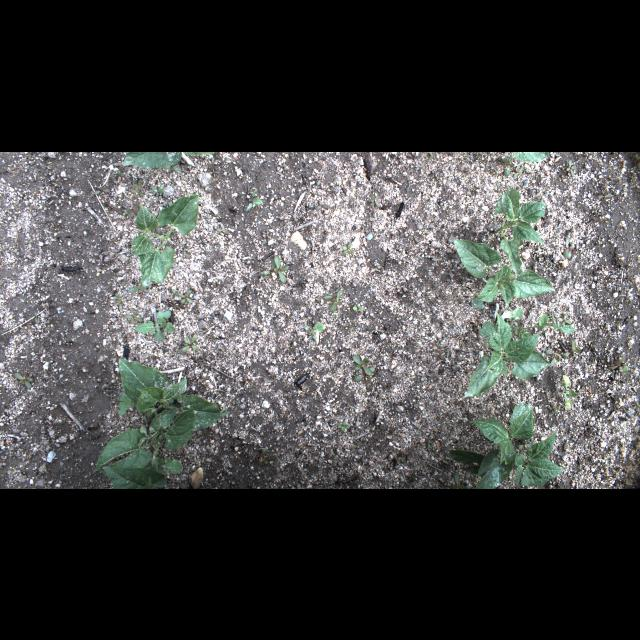crop: (450, 404, 566, 488), (118, 358, 230, 429), (463, 309, 551, 396), (96, 408, 194, 474), (132, 193, 198, 287), (493, 187, 545, 275), (122, 151, 214, 171), (102, 468, 166, 488), (512, 152, 550, 160)
weed: (478, 305, 576, 343), (134, 310, 176, 340), (352, 354, 376, 388), (262, 255, 288, 283), (562, 372, 580, 410), (144, 458, 184, 474), (322, 289, 344, 311), (610, 353, 630, 373), (247, 188, 263, 212), (180, 336, 200, 354), (172, 288, 192, 304), (14, 372, 34, 388), (260, 447, 276, 467), (561, 341, 581, 357), (305, 322, 323, 338), (128, 278, 148, 292), (501, 153, 514, 174), (454, 472, 471, 488), (125, 310, 144, 324), (117, 396, 131, 414), (546, 349, 560, 366), (564, 236, 574, 258), (566, 158, 576, 178), (216, 221, 230, 235), (342, 242, 354, 256), (557, 314, 571, 326), (113, 294, 123, 310), (127, 202, 137, 218), (152, 186, 164, 198), (338, 421, 350, 432), (94, 186, 110, 194), (129, 188, 145, 196), (518, 442, 534, 450), (596, 190, 612, 198), (112, 172, 124, 182), (370, 194, 380, 206), (514, 166, 524, 177), (352, 303, 364, 311), (408, 234, 420, 242), (209, 167, 219, 176), (550, 404, 558, 414), (132, 179, 142, 187), (316, 203, 329, 209), (34, 311, 40, 323), (426, 439, 432, 449), (318, 172, 322, 184), (437, 342, 441, 346)
